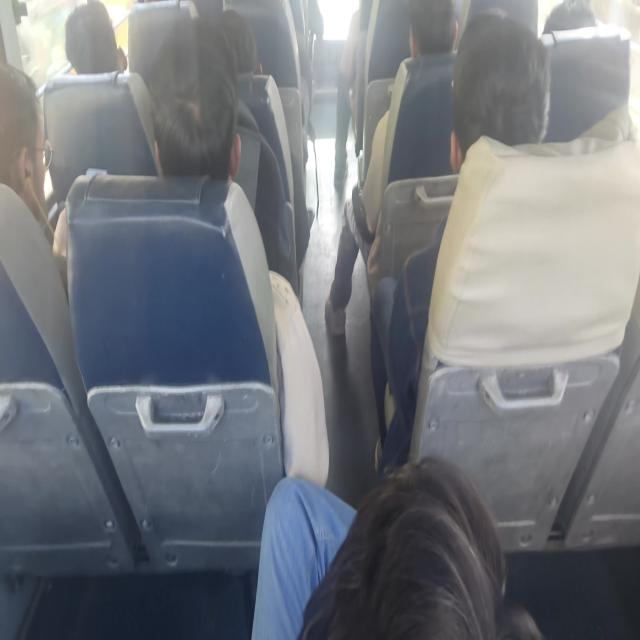person: (146, 16, 330, 485), (369, 9, 551, 475), (251, 454, 542, 638), (324, 0, 458, 336), (147, 17, 299, 296), (0, 60, 68, 294), (332, 4, 362, 190), (64, 0, 128, 74)
